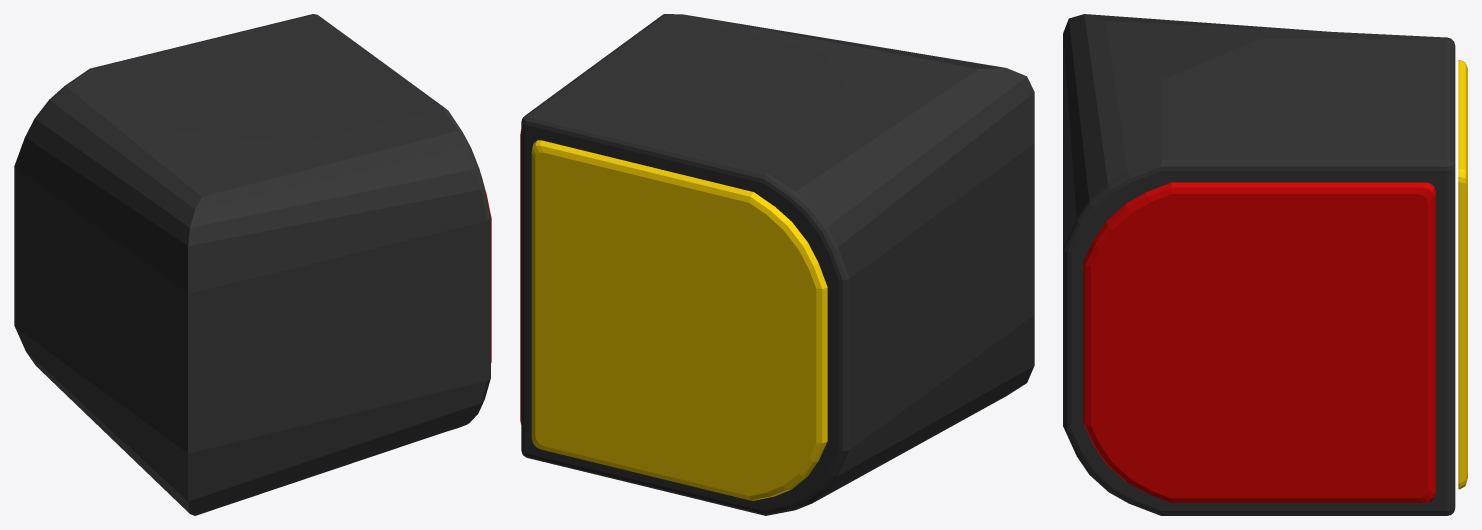
3 renders of one model, left to right at view 1: azimuth 30°, elevation 25°; view 2: azimuth 150°, elevation 25°; view 3: azimuth 270°, elevation 25°, orthographic. The views are drawn at different scales.
Visible parts, largest first — view 1: Cube.010; view 2: Cube.010, Cube.086, Cube.037; view 3: Cube.037, Cube.010, Cube.086.
Part boxes in pixels (box(x1,y1,x2,y2)): Cube.010: box(14, 14, 490, 515); Cube.010: box(521, 14, 1034, 515); Cube.086: box(531, 140, 827, 500); Cube.037: box(520, 129, 521, 424); Cube.037: box(1083, 182, 1435, 502); Cube.010: box(1063, 14, 1455, 515); Cube.086: box(1458, 60, 1467, 489).
Bounding box in the file's own units: 206 × 200 × 206.
